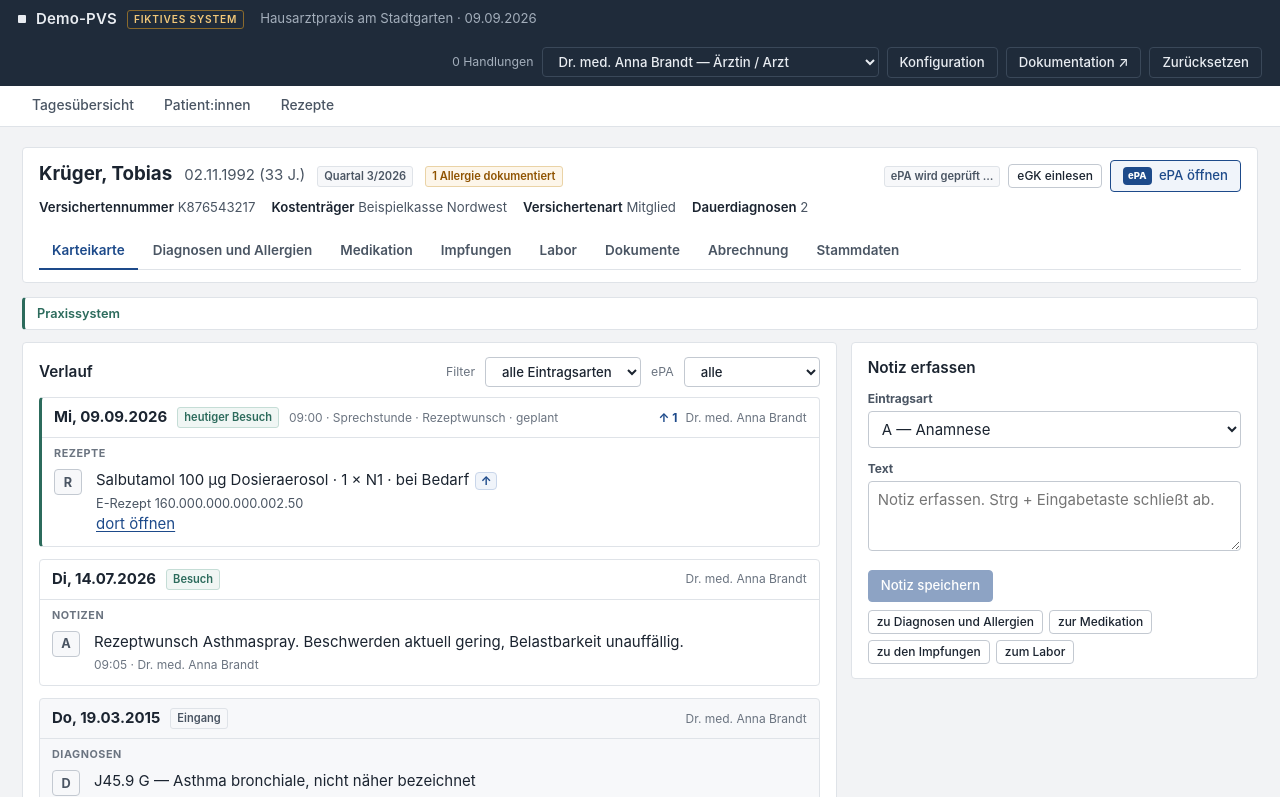
Test: Karteikarte › kennzeichnet, was in die ePA gelangt ist, und filtert danach
Expected: the text "Salbutamol 100 µg Dosieraerosol · 1 × N1 · bei Bedarf" is shown, x1=96 y1=470 x2=469 y2=489
Expected: the text named "in der ePA" is shown, x1=475 y1=472 x2=497 y2=490
Select "↓ aus der ePA" in the dropdown labelled "ePA" at {"x": 752, "y": 372}, box x1=684 y1=357 x2=820 y2=387
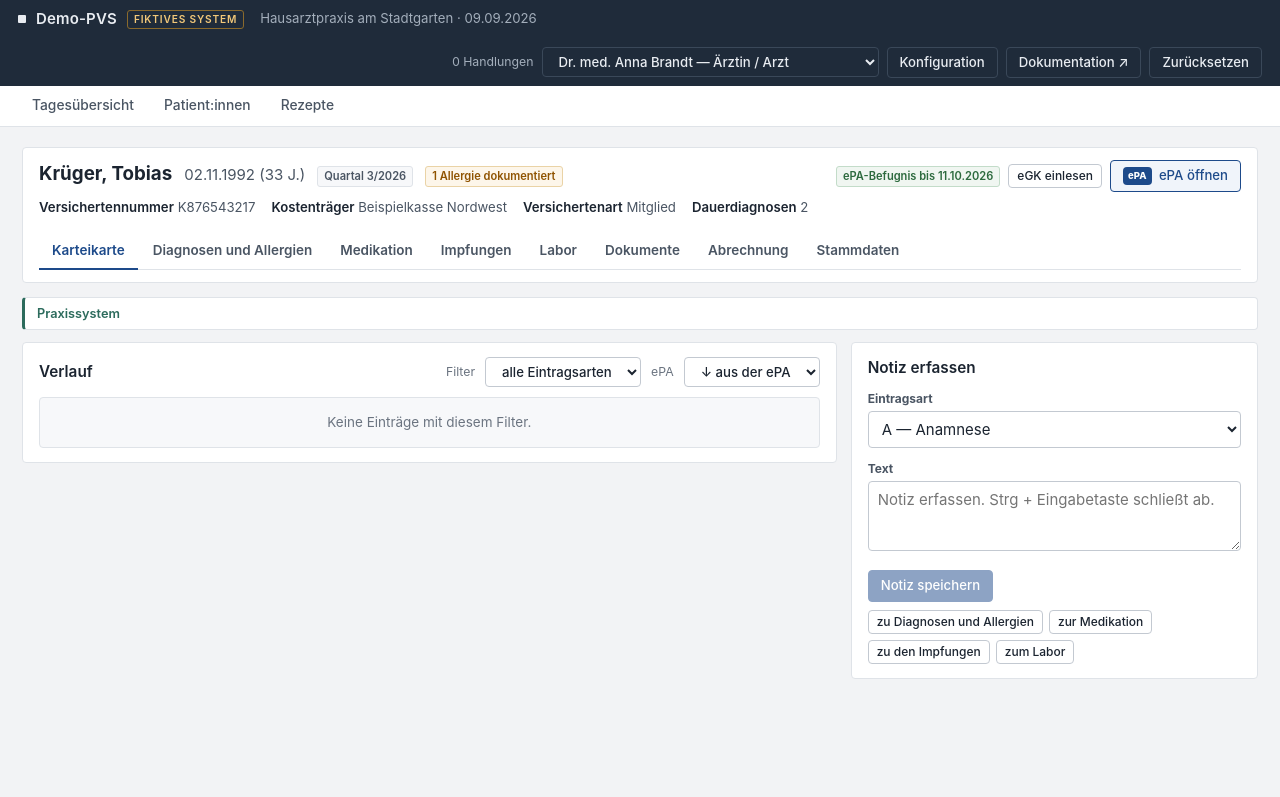
Expected: the text "Salbutamol 100 µg Dosieraerosol" is gone
